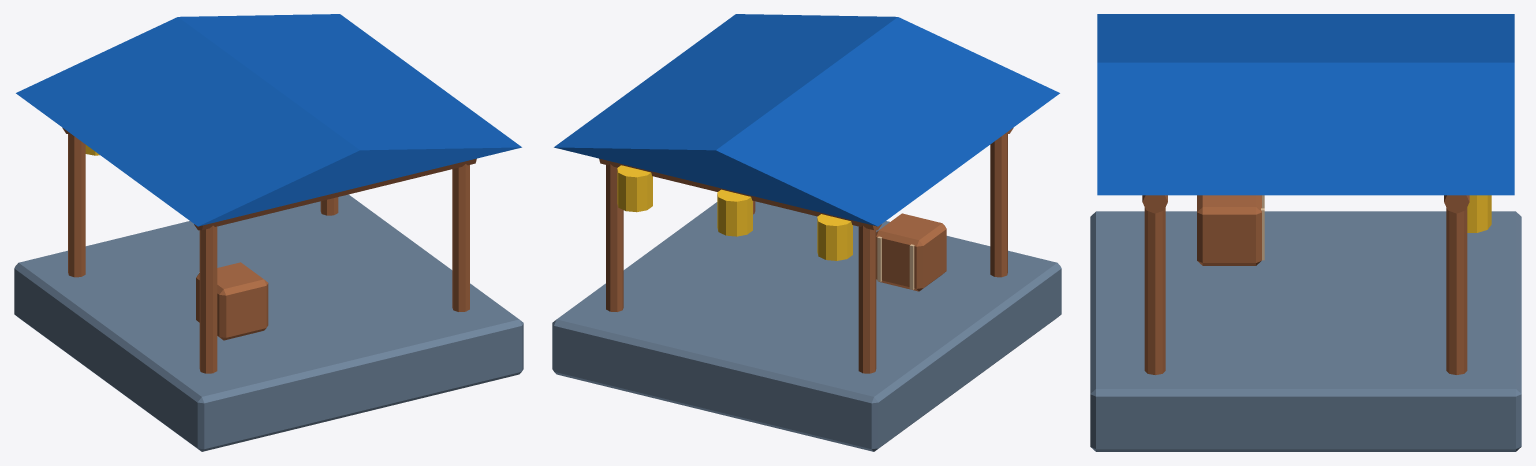
The model's file is Harbor_Stage4_v001.fbx.
3 renders of one model, left to right at view 1: azimuth 30°, elevation 25°; view 2: azimuth 150°, elevation 25°; view 3: azimuth 270°, elevation 25°, orthographic. The views are drawn at different scales.
Parts seen in each view (by area): view 1: StoneFoundation, Roof, Crate, Post.003, Post.001, Post.002, Beam.001; view 2: StoneFoundation, Roof, Crate, Post.002, Post.003, Post, Lantern_Anim.002, Lantern_Anim.001, Lantern_Anim, Beam; view 3: StoneFoundation, Roof, Crate, Post, Post.001, Lantern_Anim.
Boxes of the visible parts, x1,y1,x2,y2 form: StoneFoundation: [14, 194, 523, 451]; Roof: [16, 14, 521, 226]; Crate: [196, 262, 268, 340]; Post.003: [199, 225, 217, 373]; Post.001: [452, 164, 469, 311]; Post.002: [68, 134, 85, 277]; Beam.001: [194, 158, 476, 230]; StoneFoundation: [552, 201, 1061, 451]; Roof: [554, 14, 1059, 226]; Crate: [876, 213, 946, 291]; Post.002: [858, 225, 876, 373]; Post.003: [990, 134, 1007, 277]; Post: [606, 164, 623, 311]; Lantern_Anim.002: [817, 214, 852, 260]; Lantern_Anim.001: [717, 189, 752, 236]; Lantern_Anim: [617, 165, 652, 212]; Beam: [599, 158, 881, 230]; StoneFoundation: [1090, 211, 1521, 451]; Roof: [1097, 14, 1514, 195]; Crate: [1197, 195, 1261, 265]; Post: [1446, 207, 1467, 374]; Post.001: [1144, 207, 1165, 374]; Lantern_Anim: [1467, 195, 1491, 232].
Size of the model in its own units: 186 by 143 by 186.
